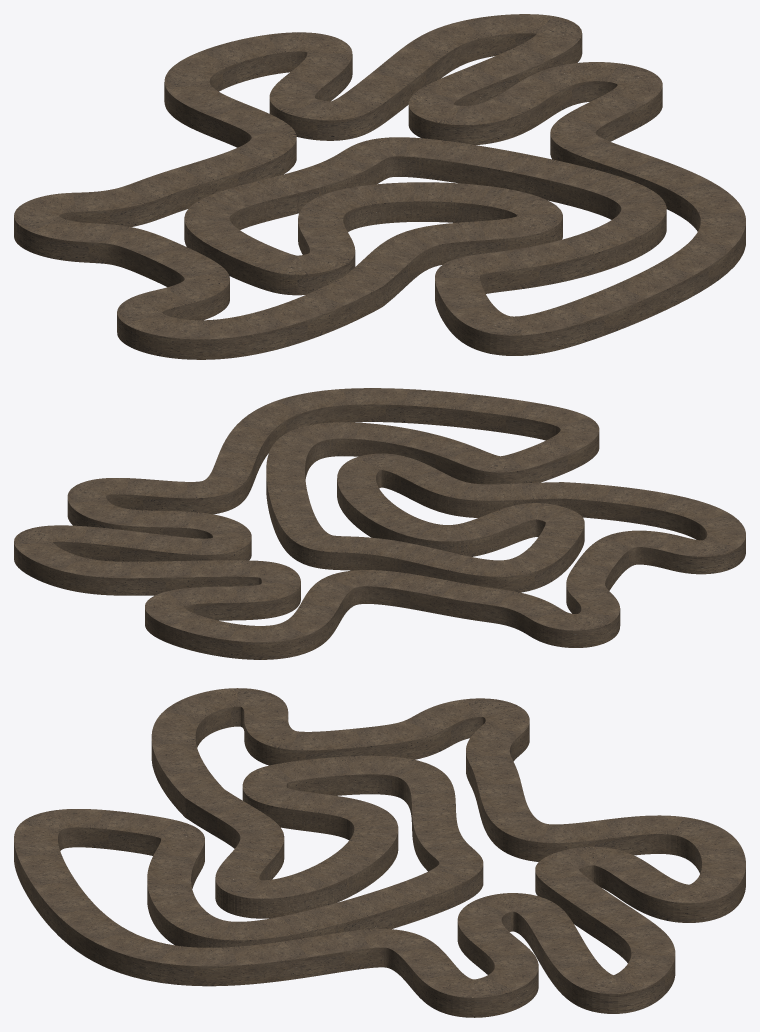
Rendered from layer-loop_07.fbx.
The picture shows the model from 3 angles, top to bottom: view 1: azimuth 30°, elevation 25°; view 2: azimuth 150°, elevation 25°; view 3: azimuth 270°, elevation 25°; orthographic projection. The views are drawn at different scales.
Parts seen in each view (by area): view 1: Layer Loop; view 2: Layer Loop; view 3: Layer Loop.
Part boxes in pixels (left/top/right/bottom): Layer Loop: left=14, top=14, right=745, bottom=359; Layer Loop: left=14, top=388, right=745, bottom=659; Layer Loop: left=14, top=688, right=745, bottom=1017.
Size of the model in its own units: 6676 by 200 by 6666.
Materials: 1 (1 with a texture image).
